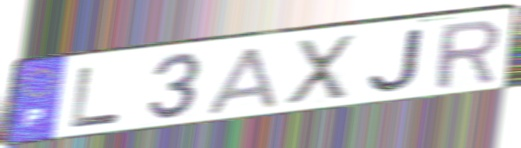3: (141, 49, 204, 125)
A: (204, 44, 282, 117)
J: (365, 26, 426, 96)
L: (68, 65, 124, 131)
R: (433, 17, 503, 93)
X: (281, 32, 358, 107)
